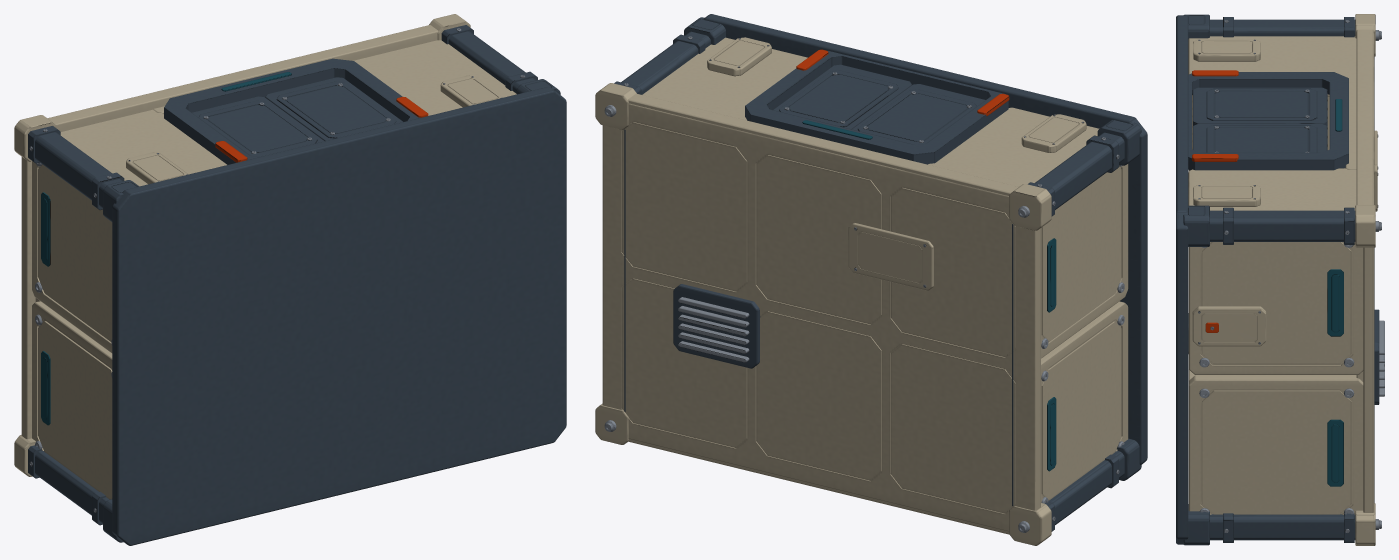
The model's file is BasicWarehouse.fbx.
3 renders of one model, left to right at view 1: azimuth 30°, elevation 25°; view 2: azimuth 150°, elevation 25°; view 3: azimuth 270°, elevation 25°, orthographic. The views are drawn at different scales.
Visible parts, largest first — view 1: base_frame, side_wall_panel, side_wall_panel.001, entrance_frame, front_flank_panel, roof_eave_beam.001, front_flank_panel.001, door_inset_panel.001, door_inset_panel, roof_deck, corner_post.001, corner_post (+6 smaller); view 2: roof_deck, side_wall_panel, base_frame, side_wall_panel.001, entrance_frame, front_flank_panel, front_flank_panel.001, roof_eave_beam.001, roof_service_hatch, door_inset_panel.001, door_inset_panel, roof_vent_base (+13 smaller); view 3: side_wall_panel.002, side_wall_panel.003, base_frame, entrance_frame, front_flank_panel.001, front_flank_panel, corner_post.003, door_inset_panel, roof_deck, corner_post.002, roof_eave_beam.001, door_inset_panel.001 (+25 smaller).
Part boxes in pixels (left/top/right/bottom): base_frame: left=112, top=87, right=566, bottom=545; side_wall_panel: left=32, top=301, right=112, bottom=499; side_wall_panel.001: left=32, top=161, right=112, bottom=353; entrance_frame: left=164, top=58, right=420, bottom=164; front_flank_panel: left=60, top=109, right=226, bottom=186; roof_eave_beam.001: left=47, top=25, right=438, bottom=131; front_flank_panel.001: left=353, top=40, right=516, bottom=115; door_inset_panel.001: left=276, top=81, right=396, bottom=138; door_inset_panel: left=198, top=100, right=317, bottom=156; roof_deck: left=21, top=157, right=35, bottom=439; corner_post.001: left=35, top=132, right=122, bottom=208; corner_post: left=35, top=450, right=109, bottom=523; roof_deck: left=602, top=103, right=1040, bottom=531; side_wall_panel: left=1041, top=301, right=1128, bottom=502; base_frame: left=703, top=14, right=1147, bottom=465; side_wall_panel.001: left=1041, top=164, right=1128, bottom=358; entrance_frame: left=745, top=51, right=1008, bottom=164; front_flank_panel: left=928, top=107, right=1099, bottom=186; front_flank_panel.001: left=642, top=37, right=807, bottom=120; roof_eave_beam.001: left=628, top=93, right=1018, bottom=195; roof_service_hatch: left=848, top=222, right=933, bottom=290; door_inset_panel.001: left=779, top=70, right=898, bottom=127; door_inset_panel: left=857, top=89, right=976, bottom=144; roof_vent_base: left=673, top=284, right=760, bottom=368; side_wall_panel.002: left=1188, top=375, right=1363, bottom=514; side_wall_panel.003: left=1188, top=242, right=1363, bottom=374; base_frame: left=1176, top=15, right=1188, bottom=544; entrance_frame: left=1188, top=72, right=1348, bottom=170; front_flank_panel.001: left=1188, top=168, right=1356, bottom=210; front_flank_panel: left=1188, top=36, right=1356, bottom=96; corner_post.003: left=1210, top=210, right=1355, bottom=241; door_inset_panel: left=1206, top=88, right=1317, bottom=120; roof_deck: left=1363, top=33, right=1374, bottom=512; corner_post.002: left=1210, top=514, right=1355, bottom=540; roof_eave_beam.001: left=1356, top=29, right=1373, bottom=204; door_inset_panel.001: left=1206, top=125, right=1317, bottom=152.
Size of the model in its own units: 800 by 600 by 340.
